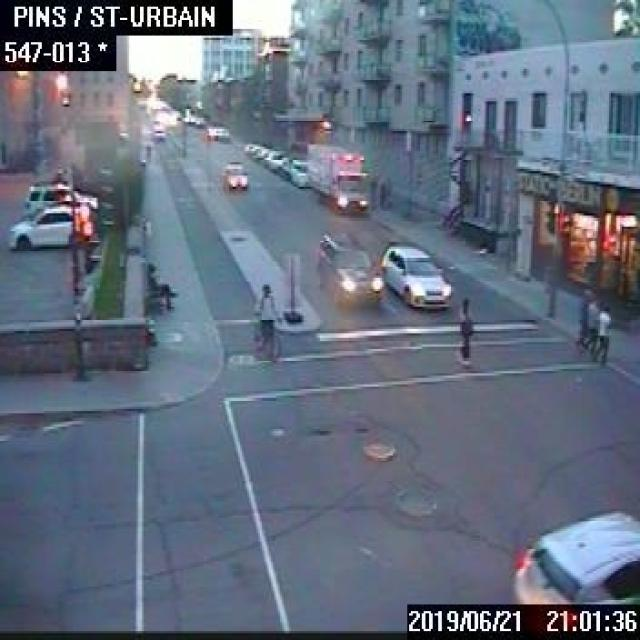cyclist: (247, 282, 278, 358)
pedestrian: (142, 262, 176, 309), (590, 303, 612, 365), (578, 294, 598, 354), (573, 287, 591, 345), (458, 298, 473, 356), (377, 176, 386, 207), (144, 142, 150, 158)
vehicle: (509, 507, 638, 602), (318, 226, 382, 306), (380, 242, 452, 308), (305, 141, 371, 213), (7, 203, 92, 251), (24, 182, 98, 211), (222, 161, 248, 191), (288, 157, 308, 186), (264, 149, 284, 168), (277, 155, 293, 175), (253, 146, 271, 160), (152, 122, 164, 138), (243, 139, 258, 151)
